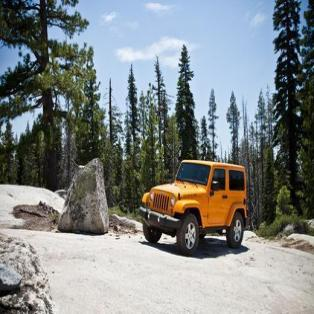Auto: (132, 150, 250, 259)
